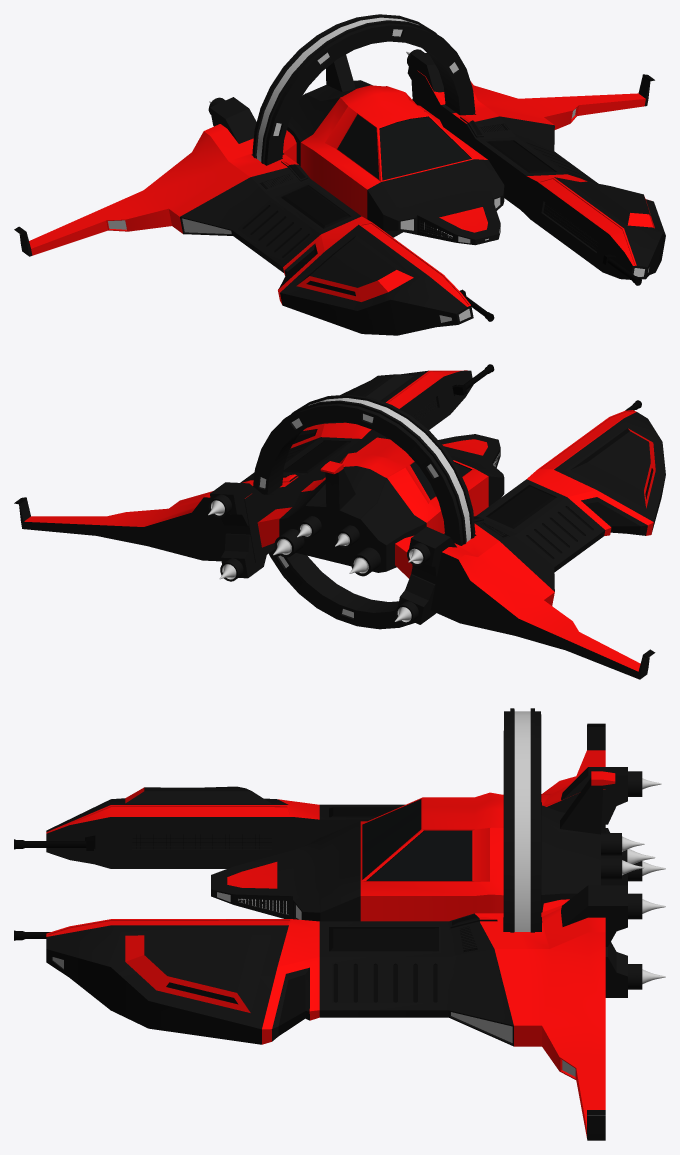
The picture shows the model from 3 angles, top to bottom: view 1: azimuth 30°, elevation 25°; view 2: azimuth 150°, elevation 25°; view 3: azimuth 270°, elevation 25°; orthographic projection. The views are drawn at different scales.
Parts seen in each view (by area): view 1: SpaceFighter_Cube.002, Outside_Cylinder.006, InsideR_Cylinder.007; view 2: SpaceFighter_Cube.002, Outside_Cylinder.006, InsideR_Cylinder.007, Booster_Cylinder; view 3: SpaceFighter_Cube.002, Outside_Cylinder.006, Booster_Cylinder.
Boxes of the visible parts, left/top/right/bottom form: SpaceFighter_Cube.002: left=14, top=49, right=665, bottom=335; Outside_Cylinder.006: left=252, top=14, right=475, bottom=237; InsideR_Cylinder.007: left=272, top=28, right=469, bottom=234; SpaceFighter_Cube.002: left=14, top=364, right=665, bottom=679; Outside_Cylinder.006: left=253, top=394, right=475, bottom=629; InsideR_Cylinder.007: left=255, top=409, right=457, bottom=625; Booster_Cylinder: left=208, top=500, right=423, bottom=621; SpaceFighter_Cube.002: left=14, top=723, right=642, bottom=1140; Outside_Cylinder.006: left=503, top=708, right=541, bottom=932; Booster_Cylinder: left=622, top=778, right=665, bottom=984.
Bounding box in the file's own units: 289 × 96.48 × 203.
